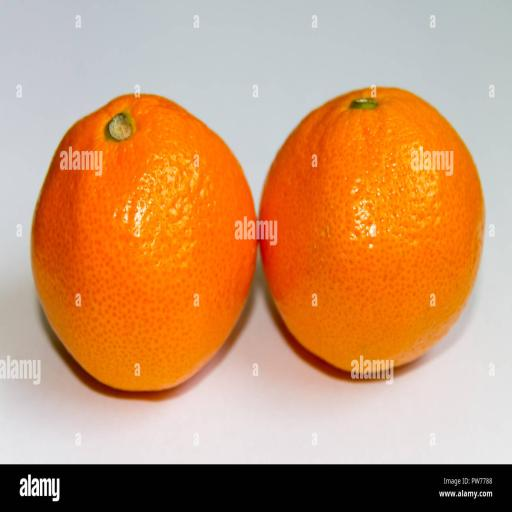orange: (32, 95, 257, 390), (260, 88, 484, 371)
